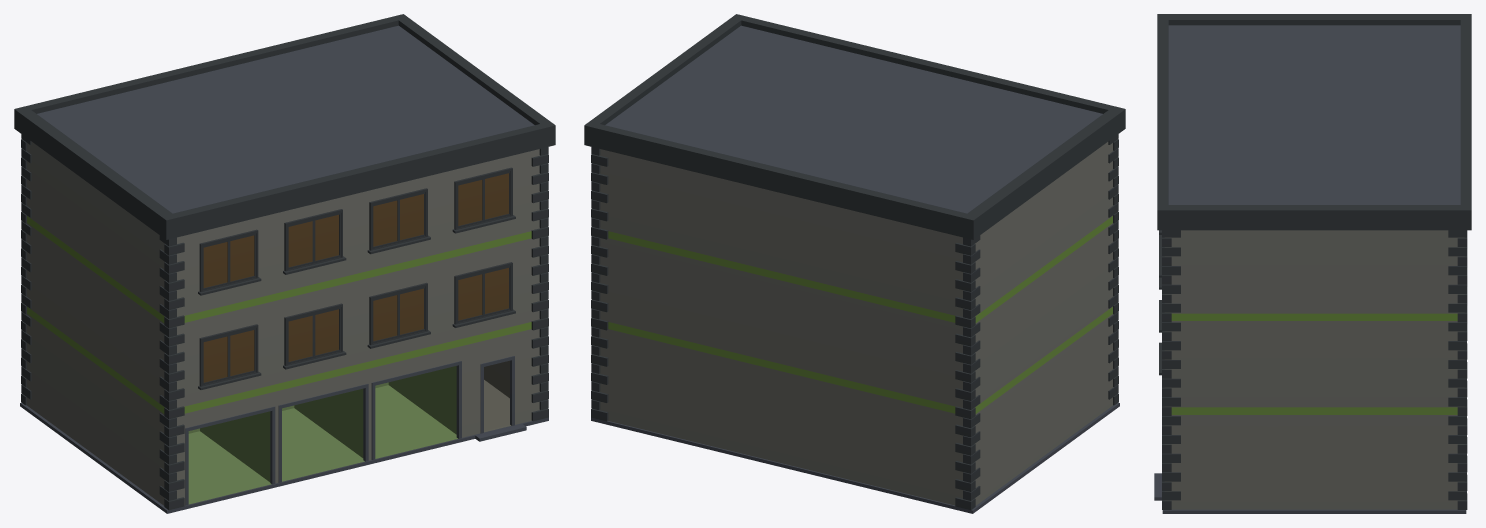
File: House_28.fbx
3 views of the same model, side by side, from view 1: azimuth 30°, elevation 25°; view 2: azimuth 150°, elevation 25°; view 3: azimuth 270°, elevation 25° (orthographic). The views are drawn at different scales.
Parts seen in each view (by area): view 1: House_28; view 2: House_28; view 3: House_28.
Part boxes in pixels (x1,y1,x2,y2): House_28: [14, 14, 555, 513]; House_28: [584, 14, 1125, 513]; House_28: [1154, 14, 1471, 513].
Bounding box in the file's own units: 12.38 × 9 × 8.47.
